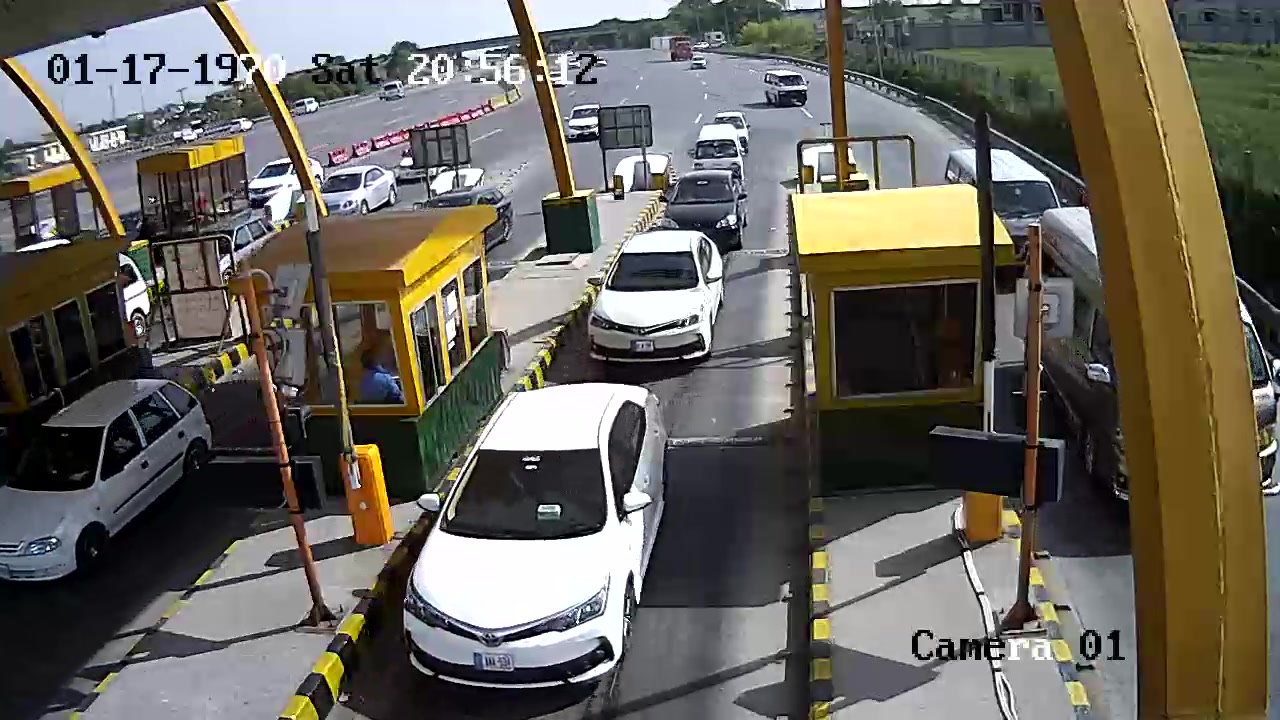F1: (389, 377, 700, 679), (586, 228, 731, 373)
